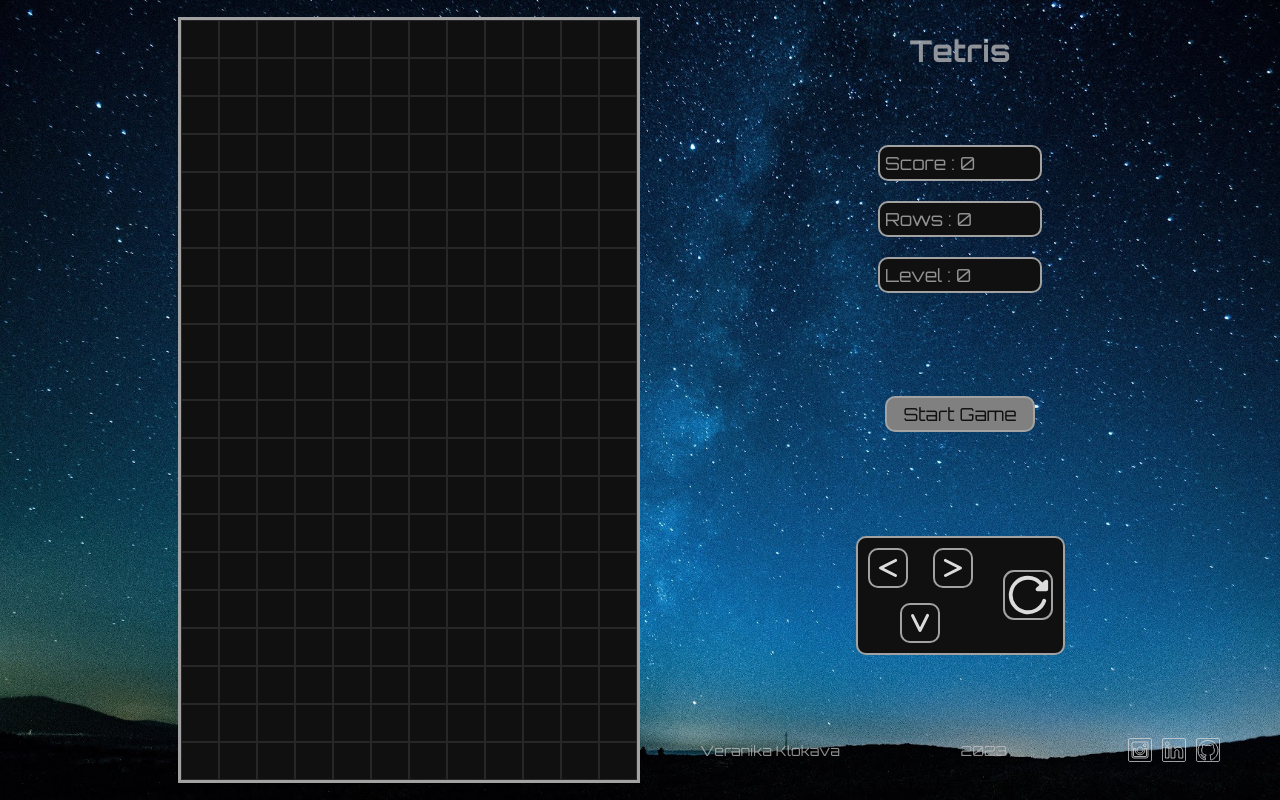
Test buttons › The start game button should change the name on restart › When you click on it
The image size is (1280, 800).
Step 1. Click the button with test id "start-game-btn" → [960, 414], box [885,396,1035,432]
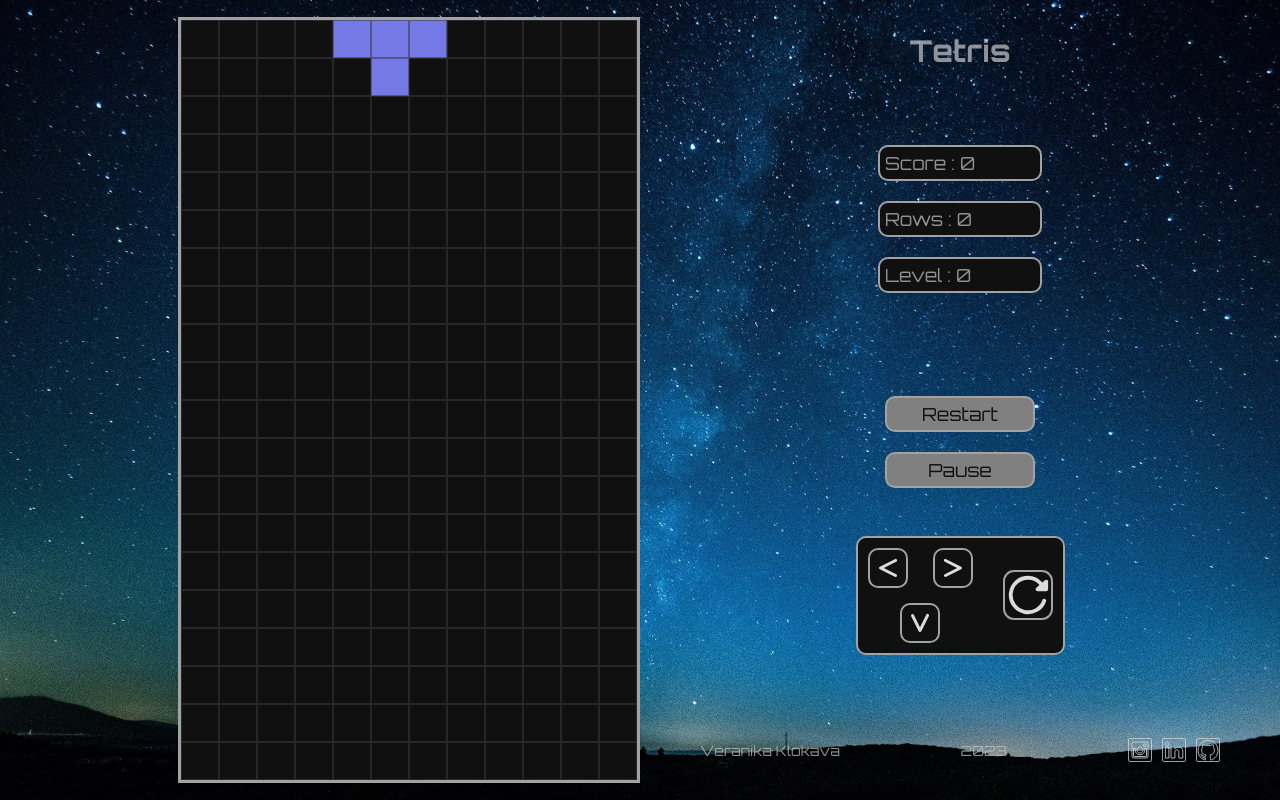
Check: the button with test id "start-game-btn" reads "Restart", box [885,396,1035,432]
